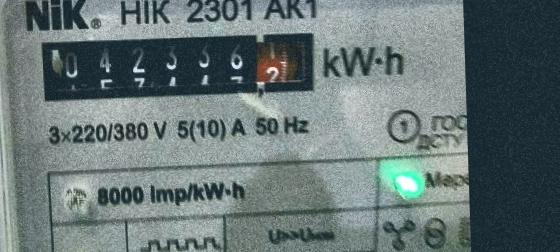0: (61, 50, 78, 79)
1: (264, 38, 277, 60)
2: (129, 44, 146, 74), (263, 64, 279, 82)
3: (193, 39, 210, 70), (161, 42, 177, 71)
4: (95, 44, 113, 74)
6: (227, 40, 245, 70)
screen: (29, 19, 327, 110)
